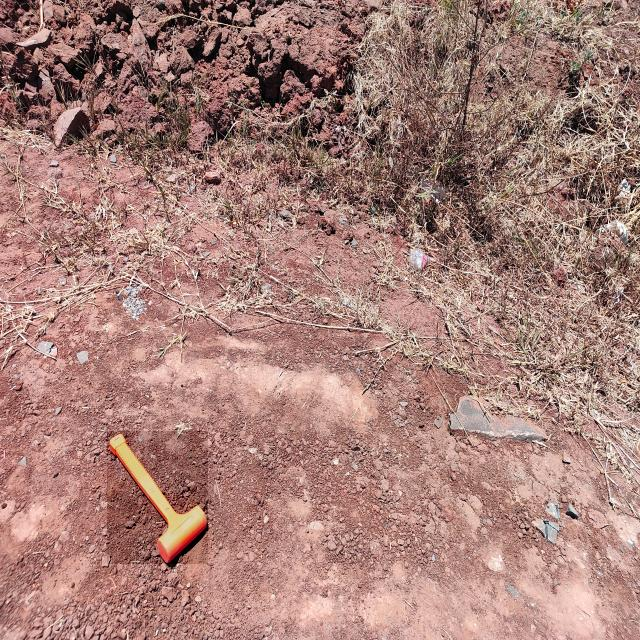Orange_hammer: (107, 431, 208, 564)
